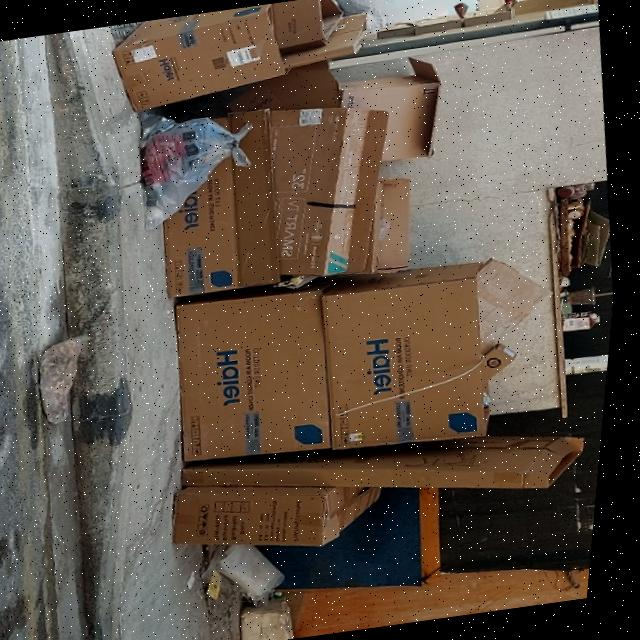Other: (183, 411, 608, 540), (317, 262, 516, 458), (162, 278, 359, 475), (260, 93, 416, 286), (151, 102, 298, 301), (174, 461, 405, 566), (102, 3, 302, 118), (148, 59, 348, 141), (336, 63, 459, 174), (477, 251, 568, 355), (355, 174, 430, 285), (554, 181, 624, 279), (276, 12, 376, 74), (224, 537, 308, 608), (276, 1, 353, 51), (564, 352, 616, 386), (564, 308, 619, 339), (489, 342, 527, 386), (567, 284, 621, 313), (207, 571, 242, 607), (564, 277, 580, 288)
Recycled Waste -Grey or Green Bag-: (128, 97, 272, 232)
